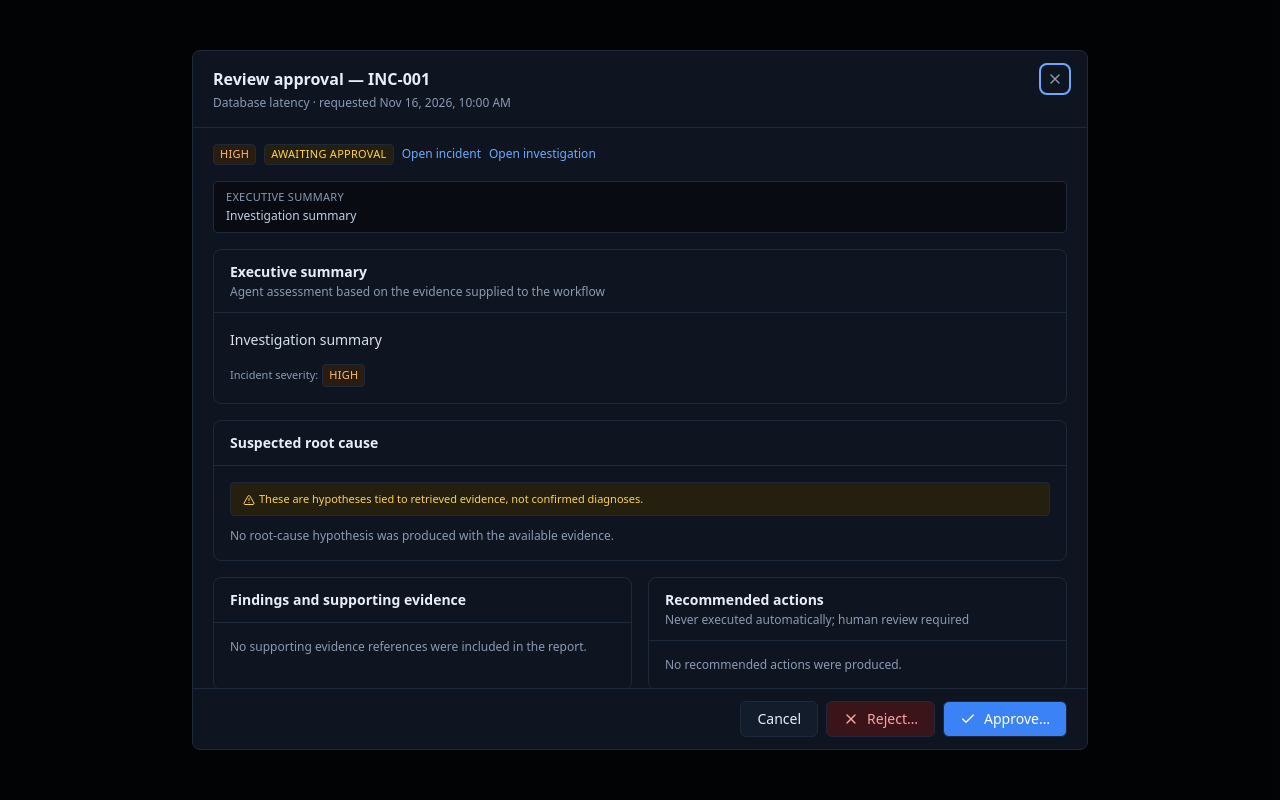
Test case: ApprovalReviewDialog › submits an approval and shows the workflow result
The width and height of the screenshot is (1280, 800).
Step 1. Click the button "Approve…" → [1005, 719], box x1=943 y1=701 x2=1067 y2=737
(page scrolled)
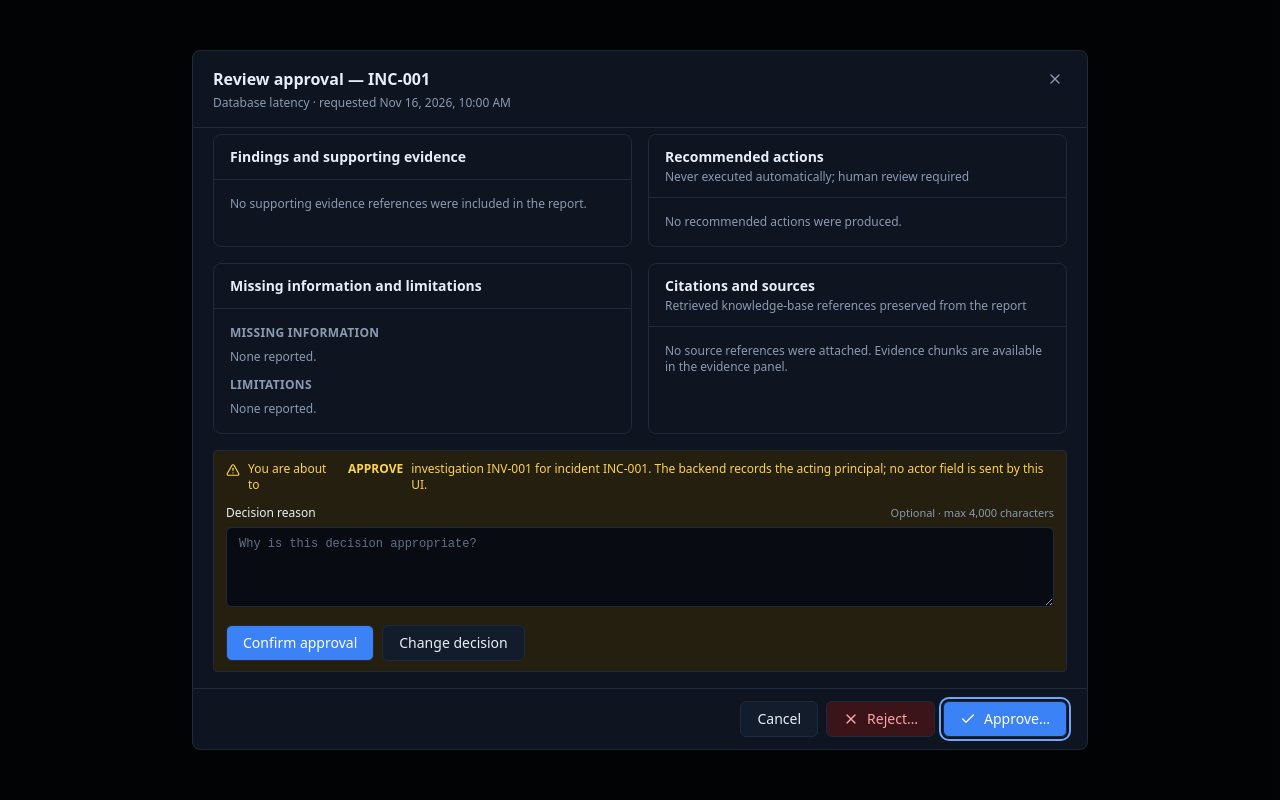
Step 2. Click the button "Confirm approval" → [300, 643], box x1=226 y1=625 x2=374 y2=661
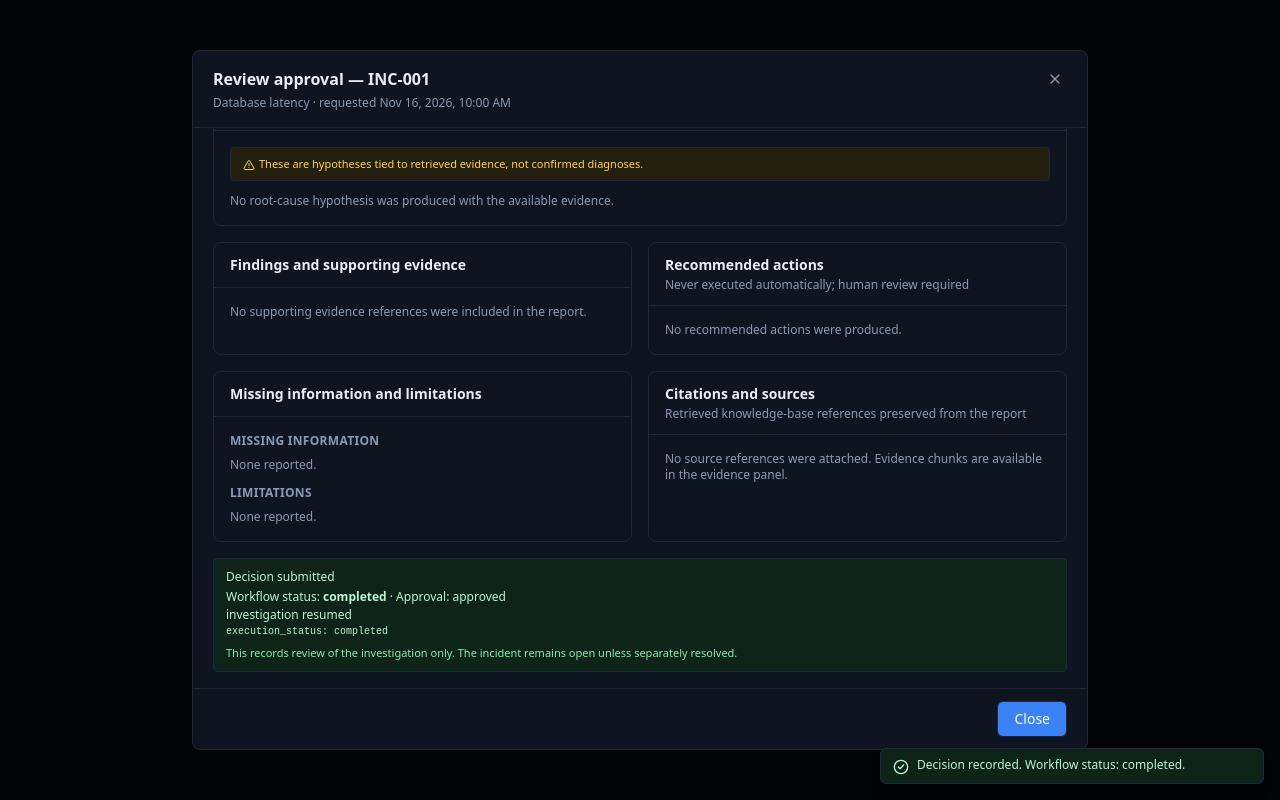
Expected: the text "Decision submitted" is shown, x1=226 y1=568 x2=335 y2=585
Expected: the text "Decision recorded. Workflow status: completed." is shown, x1=917 y1=757 x2=1185 y2=773
